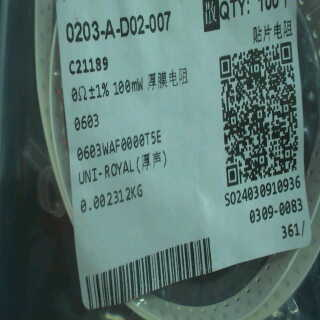0R: (70, 77, 146, 138)
